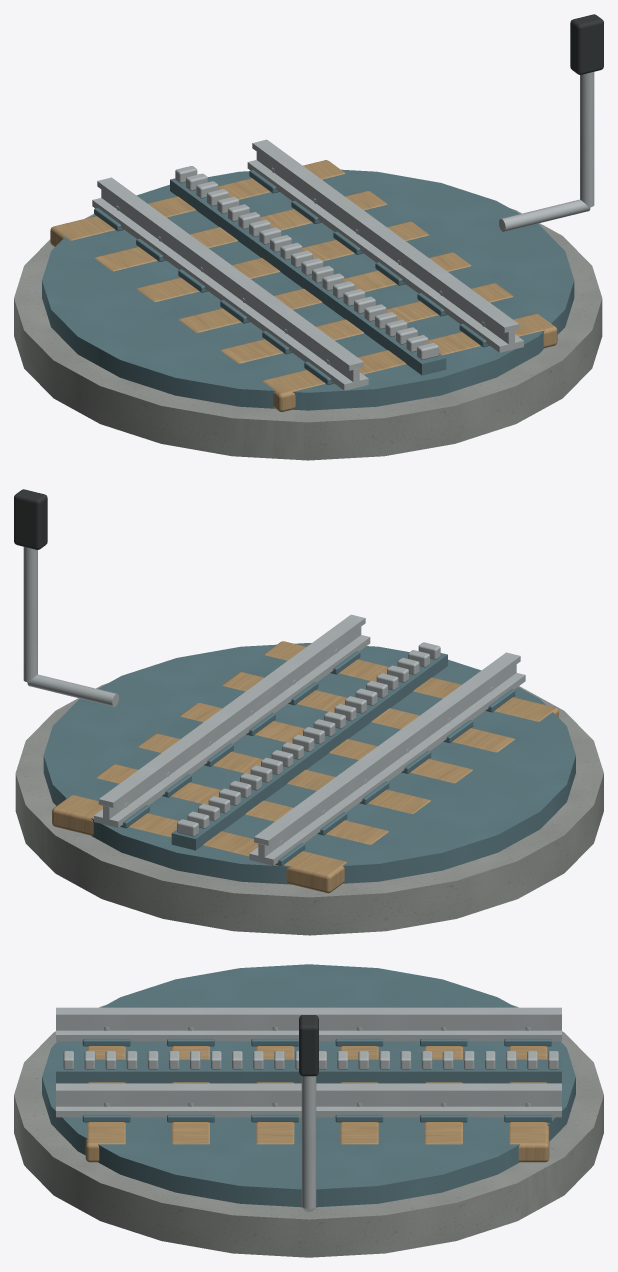
File: gorgehold-survivor-gallery-and-operations-hand-operate-5b35cfdb__32893.glb
The picture shows the model from 3 angles, top to bottom: view 1: azimuth 30°, elevation 25°; view 2: azimuth 150°, elevation 25°; view 3: azimuth 270°, elevation 25°; orthographic projection.
Parts seen in each view (by area): view 1: hand-operated-transfer-turntable; view 2: hand-operated-transfer-turntable; view 3: hand-operated-transfer-turntable.
Boxes of the visible parts, <box> form: hand-operated-transfer-turntable: <box>14,14,603,460</box>; hand-operated-transfer-turntable: <box>14,489,603,935</box>; hand-operated-transfer-turntable: <box>14,964,603,1257</box>.
Size of the model in its own units: 2.26 by 0.98 by 2.1.
Materials: 5 (4 with a texture image).
